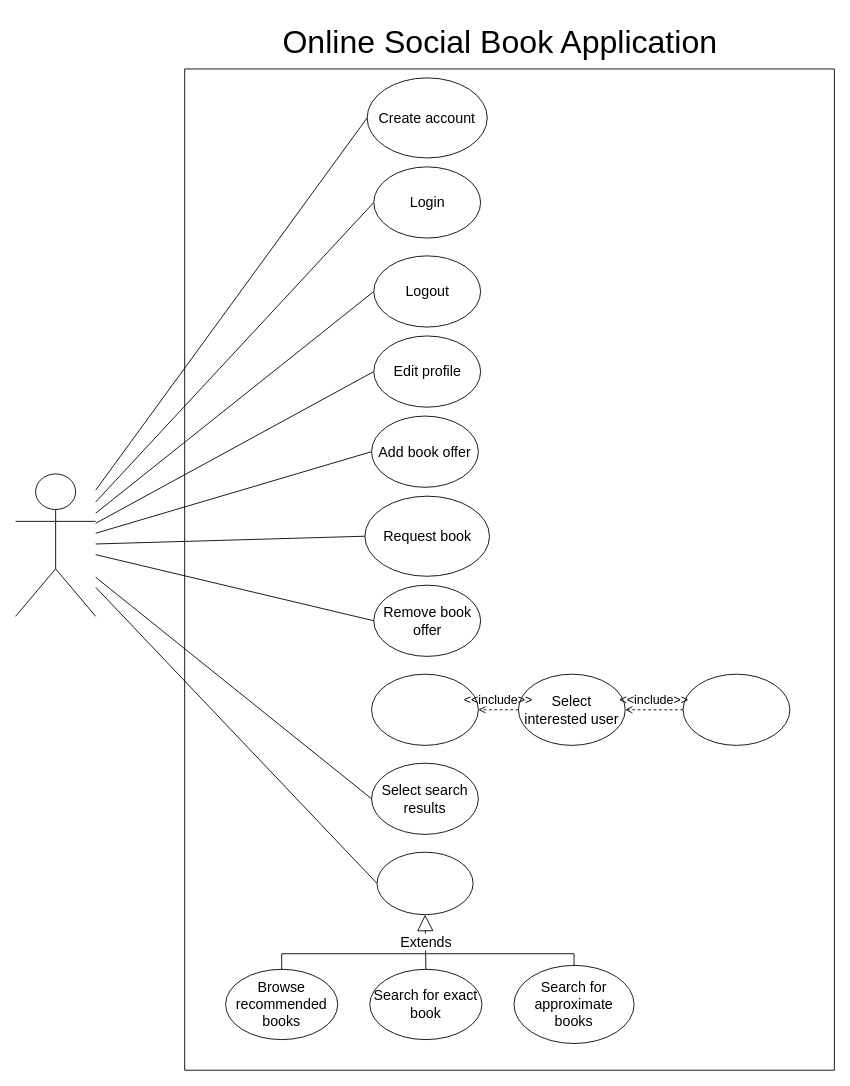
This 850x1086 diagram has some shape labels left out. Here are the shapes that lost their labels. From the top down, the centre of each, then its label:
the point at 55,544: User
the point at 424,709: Browse book request list
the point at 736,709: Access user contact info
the point at 424,883: Search for books
